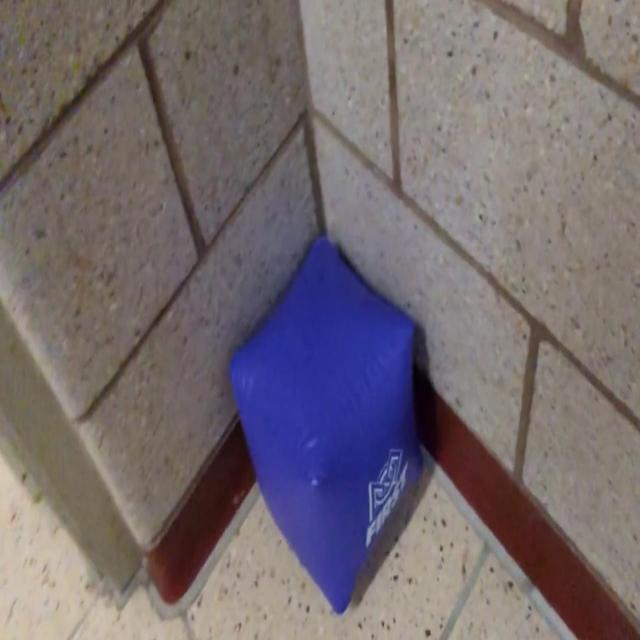frc_cube: (233, 236, 423, 617)
